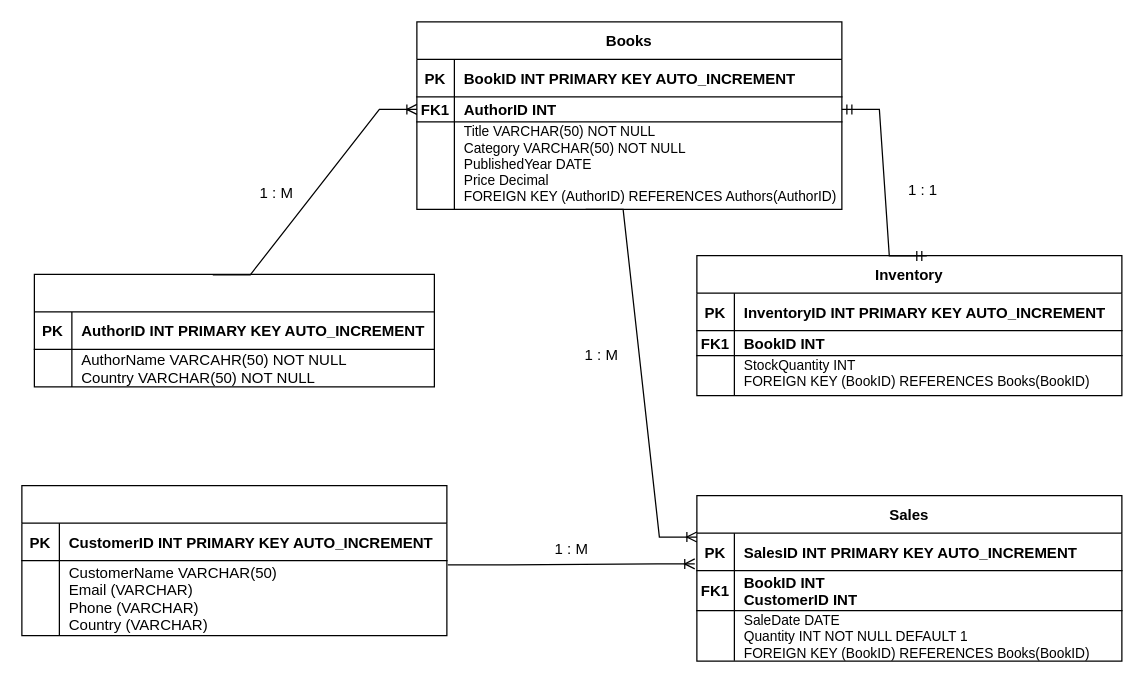
Some shapes in this 1144 by 684 pixel diagram are drawn without their labels. Here are the shapes that lost their labels. From the top down, the box of each, then its label:
(33, 273, 434, 387): Authors
(21, 484, 447, 636): Customers
